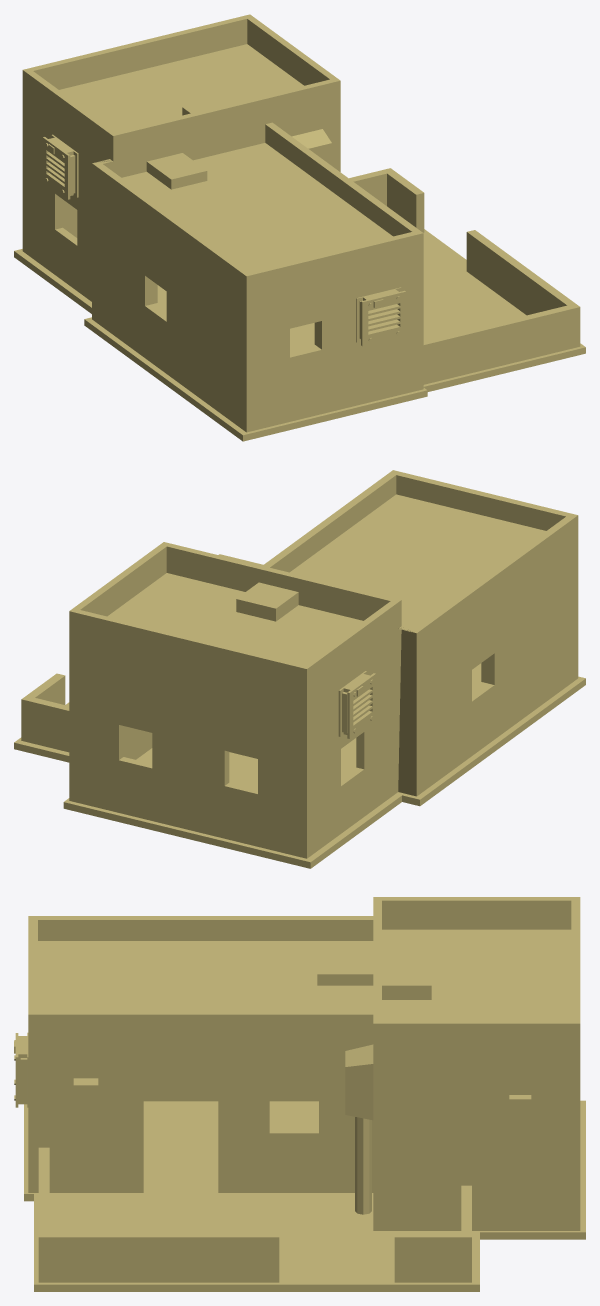
Rendered from DesertBuilding6.fbx.
3 renders of one model, top to bottom at view 1: azimuth 30°, elevation 25°; view 2: azimuth 150°, elevation 25°; view 3: azimuth 270°, elevation 25°, orthographic. The views are drawn at different scales.
Parts seen in each view (by area): view 1: Cube.011, Cube.012; view 2: Cube.011, Cube.012; view 3: Cube.011, Cube.012.
Boxes of the visible parts, box(x1,y1,x2,y2) form: Cube.011: box(22, 14, 423, 432); Cube.012: box(14, 168, 585, 441); Cube.011: box(69, 470, 578, 858); Cube.012: box(14, 554, 585, 868); Cube.011: box(14, 897, 580, 1230); Cube.012: box(24, 1100, 585, 1291).
Size of the model in its own units: 854 by 441 by 1067.
